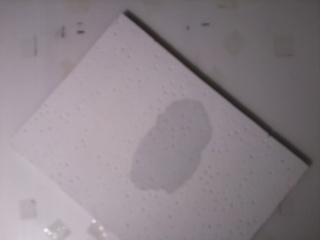Water_detected: (136, 106, 207, 186)
